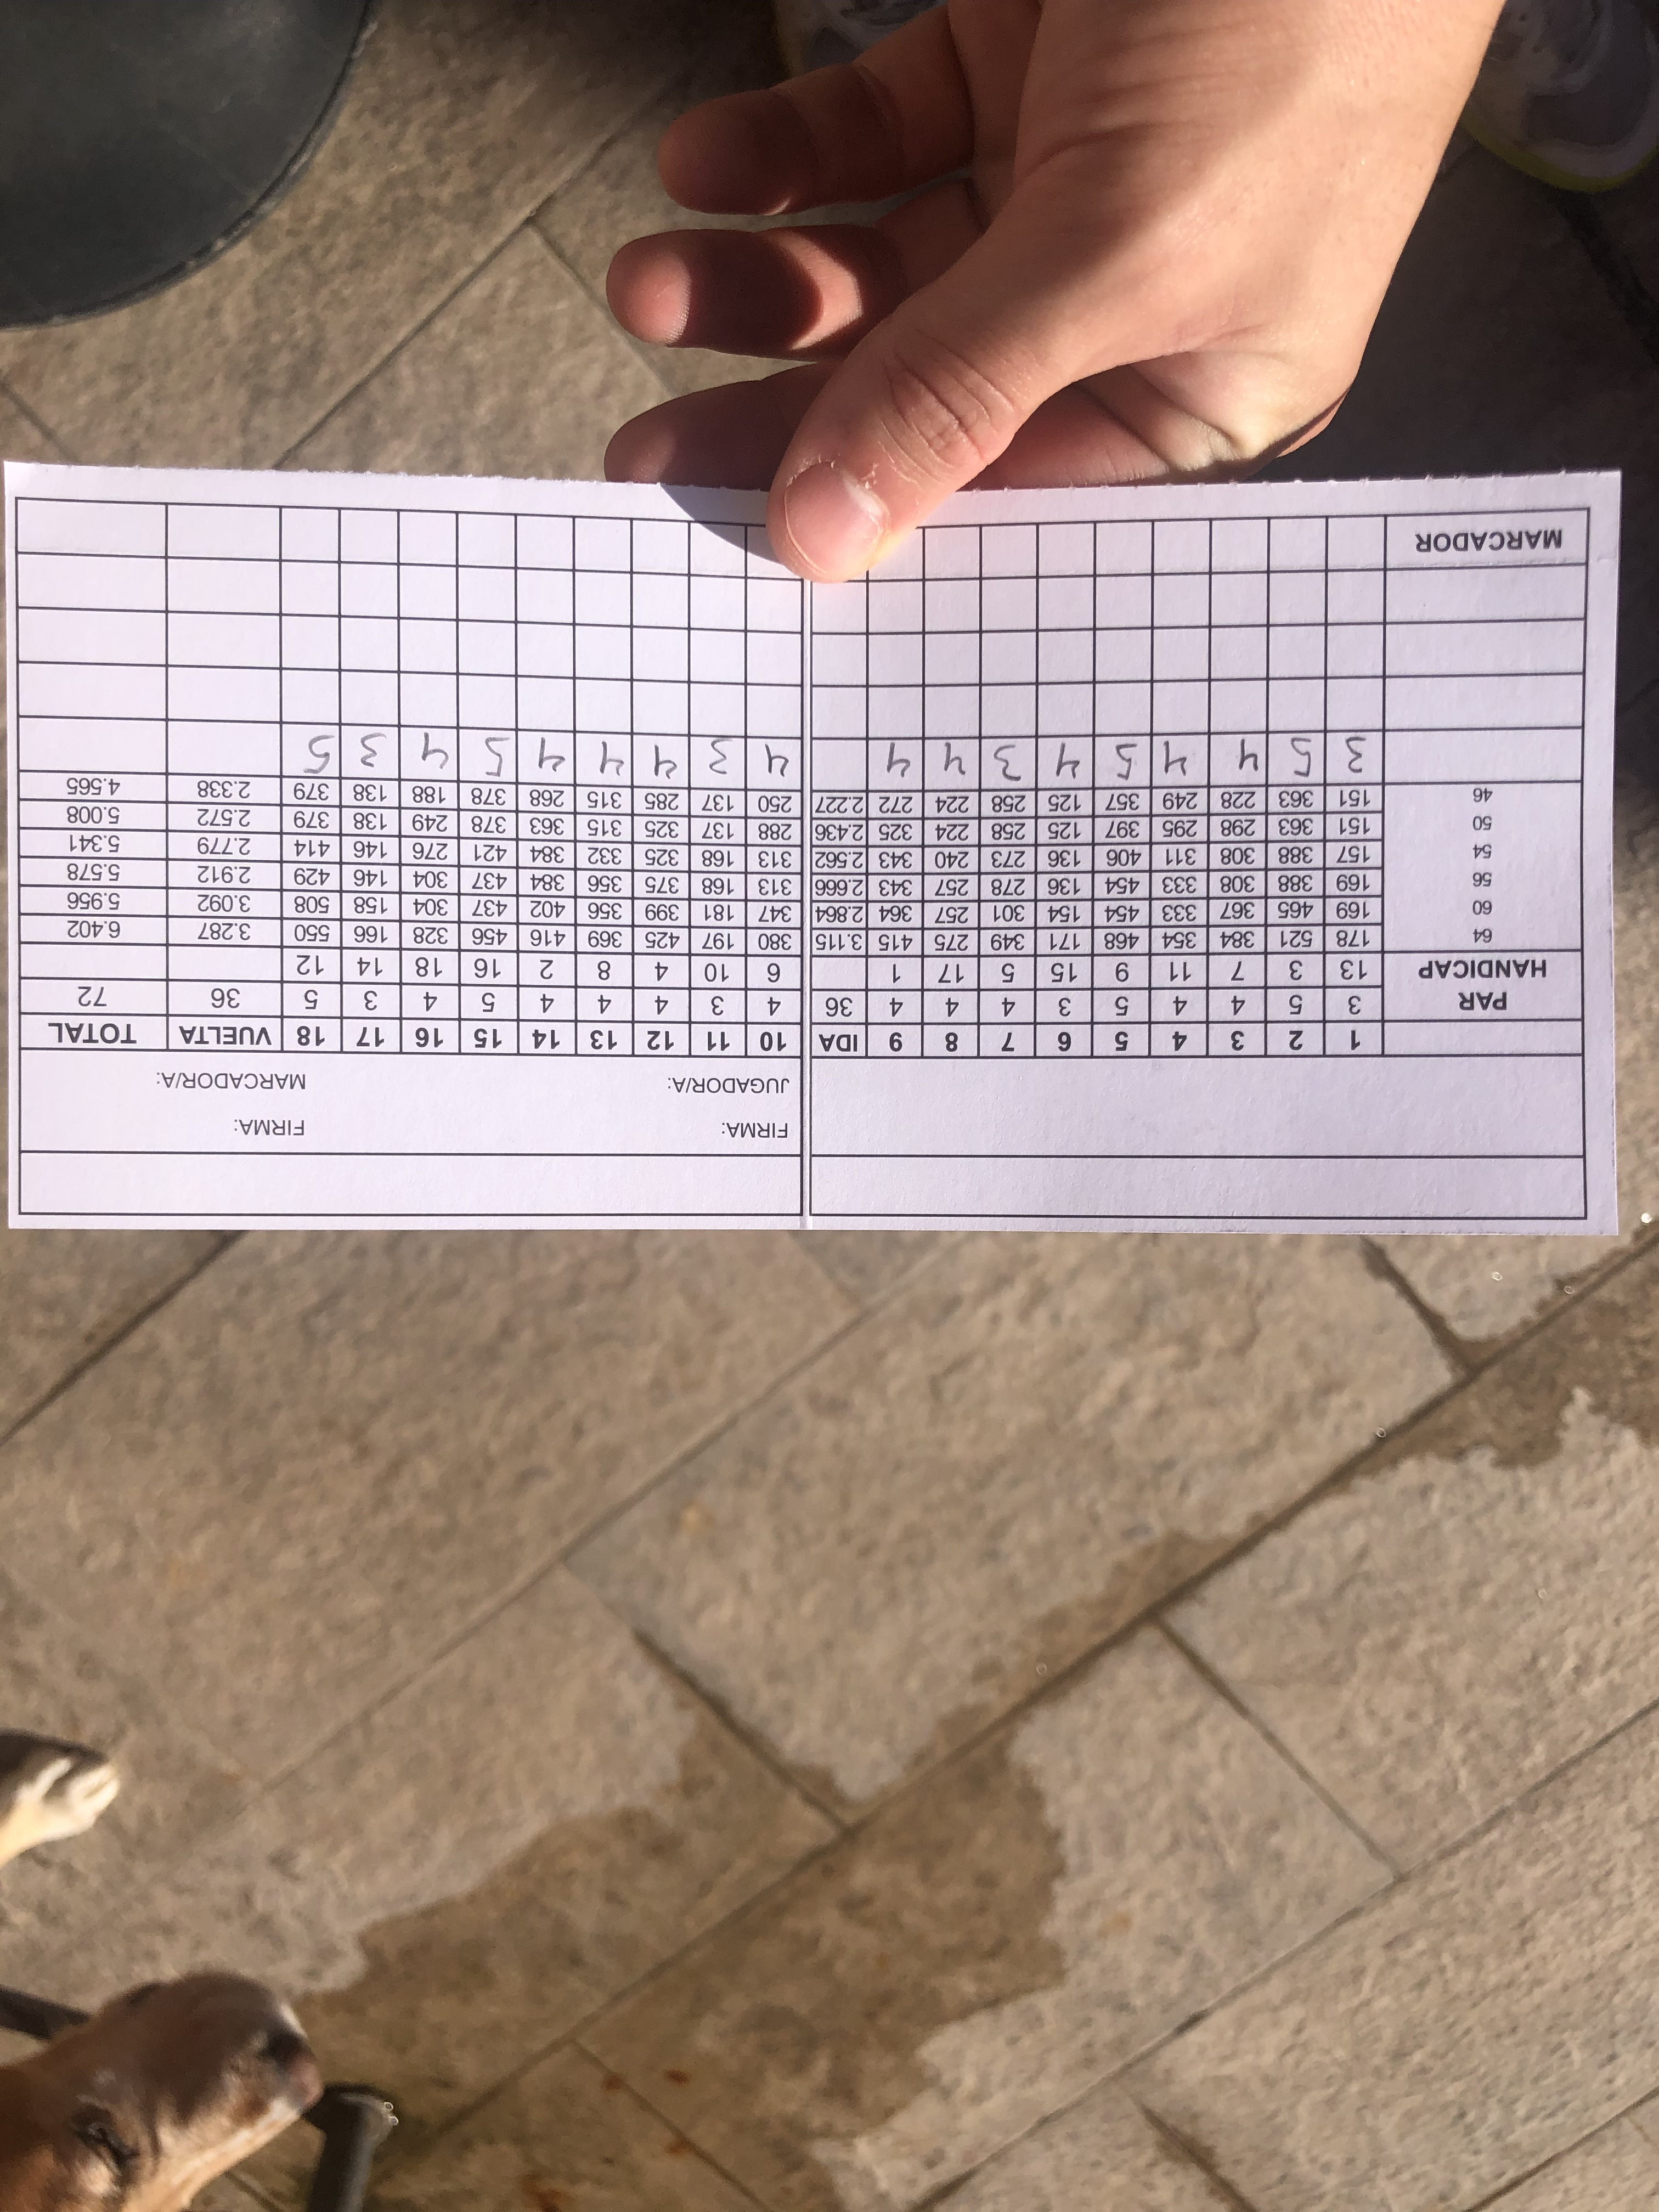par: (68, 984, 1516, 1015)
score: (295, 726, 1370, 779)
